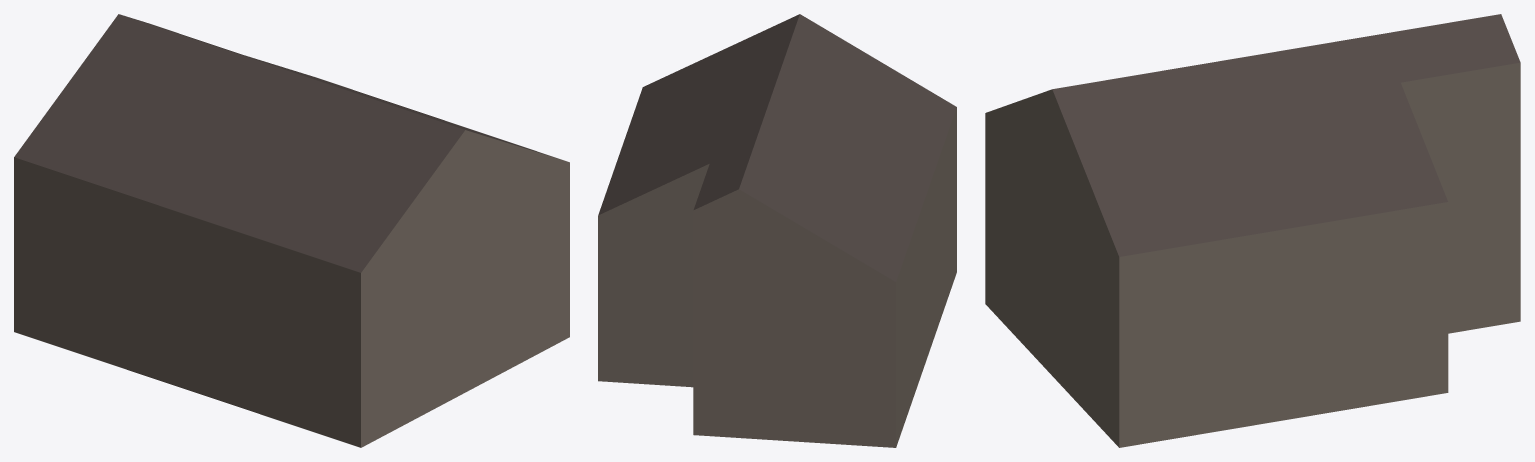
3 views of the same model, side by side, from view 1: azimuth 30°, elevation 25°; view 2: azimuth 150°, elevation 25°; view 3: azimuth 270°, elevation 25° (orthographic). The views are drawn at different scales.
Parts seen in each view (by area): view 1: HP-w1202494176; view 2: HP-w1202494176; view 3: HP-w1202494176.
Boxes of the visible parts, bbox=[...] form: HP-w1202494176: bbox=[14, 14, 569, 447]; HP-w1202494176: bbox=[598, 14, 956, 447]; HP-w1202494176: bbox=[985, 14, 1520, 447].
Bounding box in the file's own units: 14.78 × 9.01 × 15.25.
